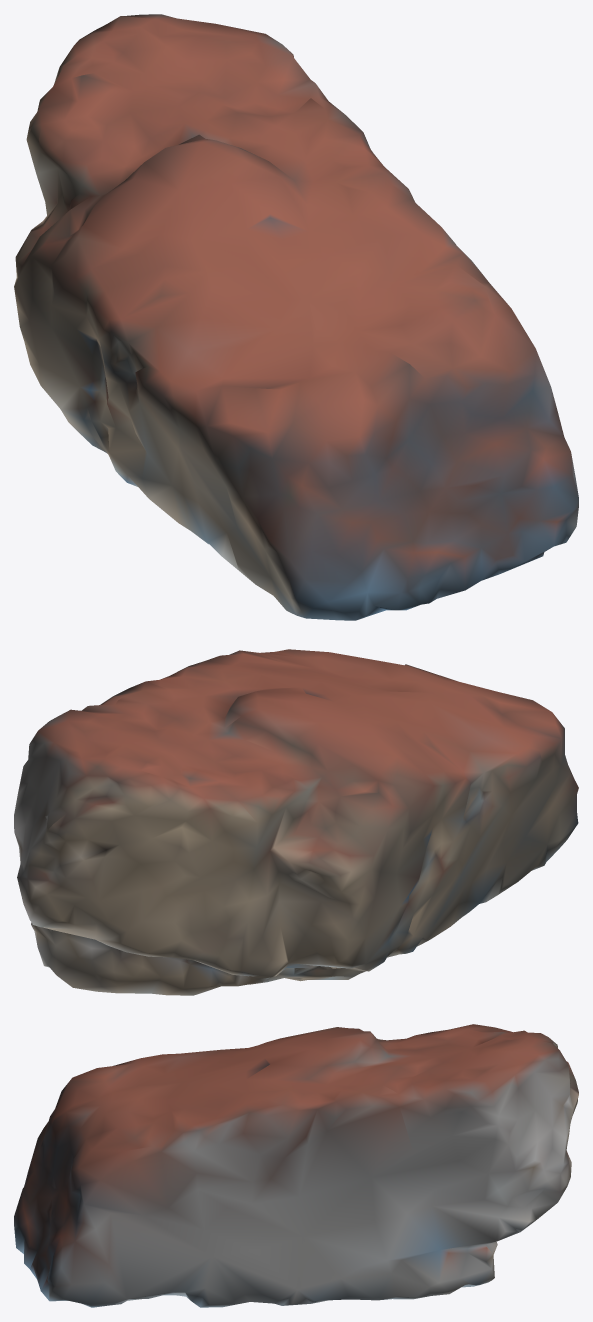
File: rock_07.glb
3 views of the same model, one above another, from view 1: azimuth 30°, elevation 25°; view 2: azimuth 150°, elevation 25°; view 3: azimuth 270°, elevation 25° (orthographic). The views are drawn at different scales.
Parts seen in each view (by area): view 1: rock_07; view 2: rock_07; view 3: rock_07.
Part boxes in pixels (x1,y1,x2,y2): rock_07: (14,14,578,620); rock_07: (14,649,578,995); rock_07: (14,1024,578,1307).
Size of the model in its own units: 1.05 by 0.8966 by 2.
